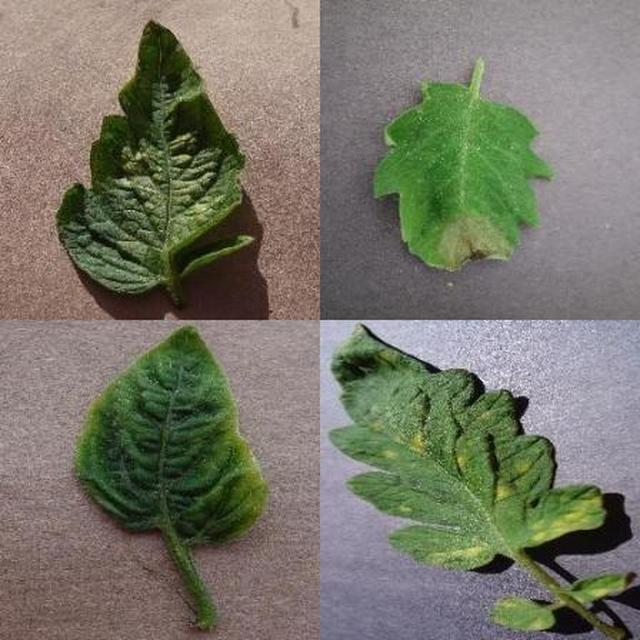Spider Mites Leaf: (224, 226, 640, 637)
